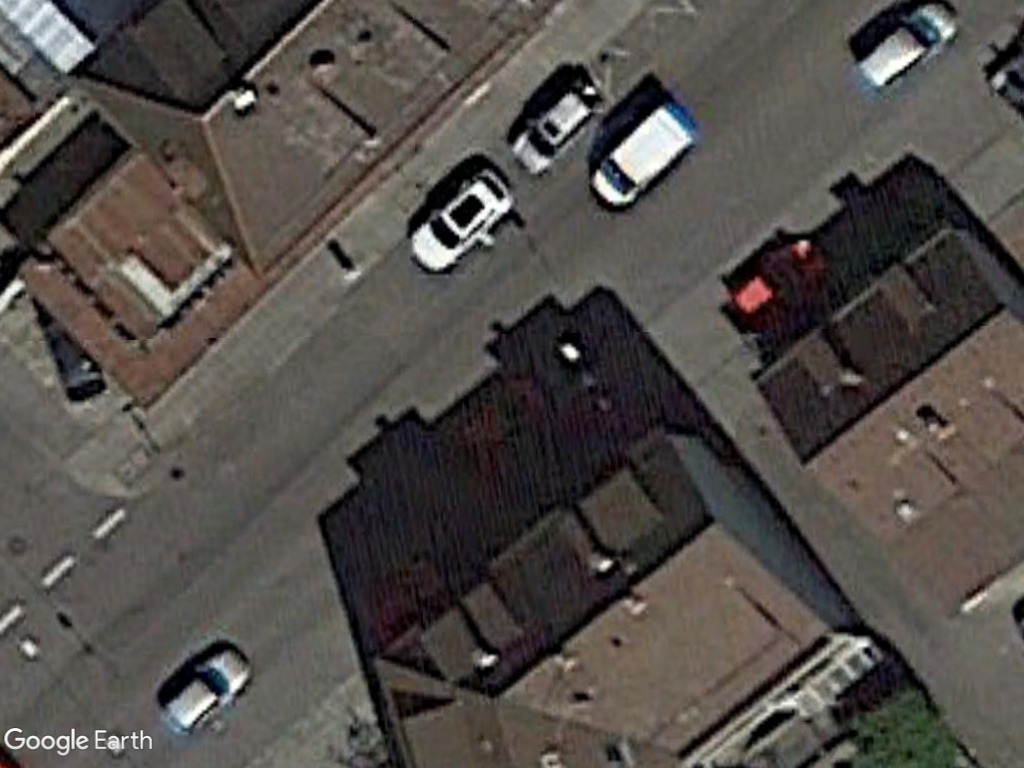car: (402, 168, 514, 276), (857, 1, 962, 96), (157, 645, 255, 740), (510, 79, 601, 178)
van: (588, 100, 703, 215)
